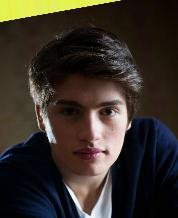face: (57, 99, 122, 160)
